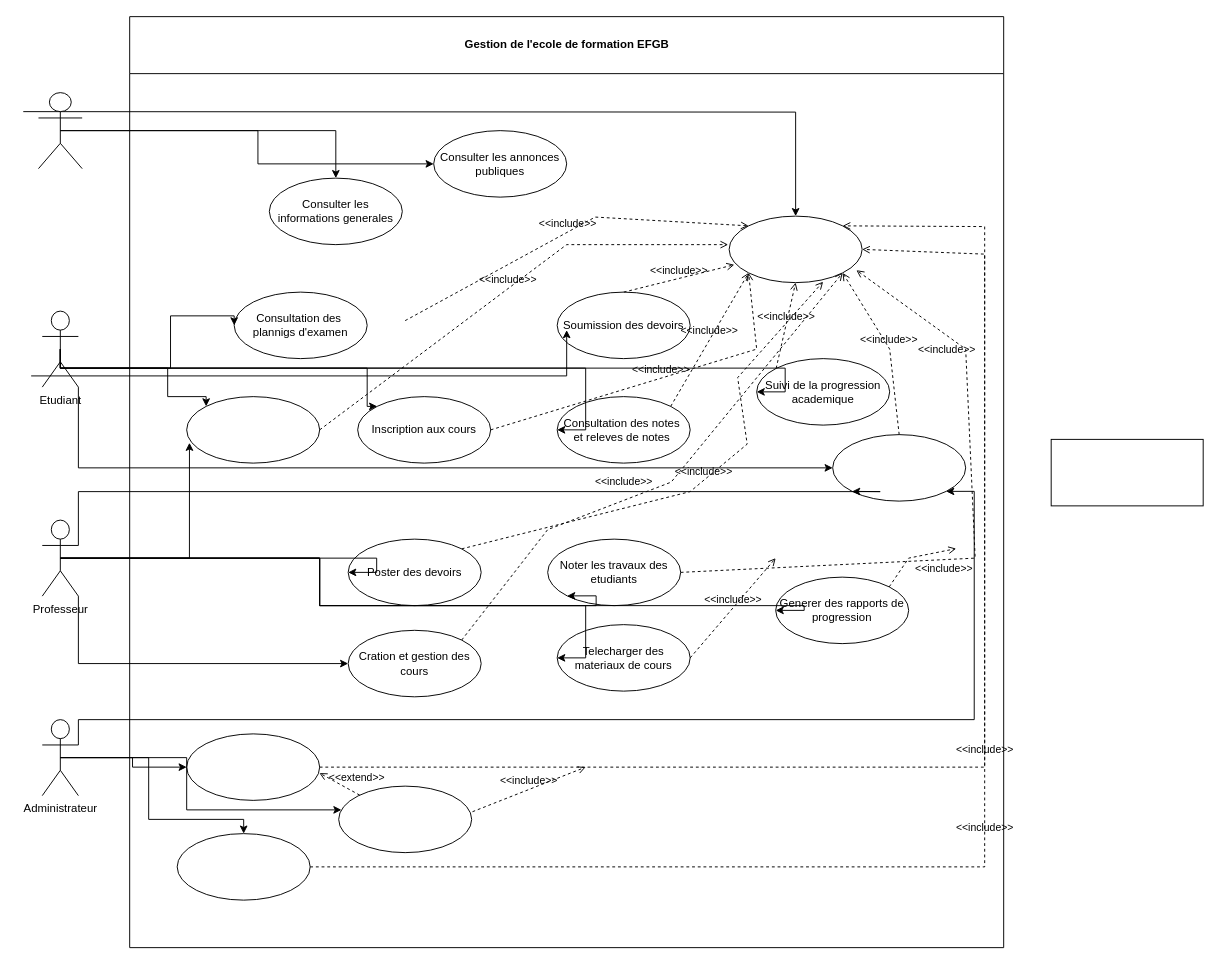
Some shapes in this 1220 by 964 pixel diagram are drawn without their labels. Here are the shapes that lost their labels. From the top down, the centre of each, then its label:
At (x=60, y=130): "Visiteur".
At (x=795, y=249): "Authentification".
At (x=253, y=429): "Consultation des plannigs de cours".
At (x=899, y=467): "Acces aux ressources pedagogiques et administratives".
At (x=1126, y=472): "<<actor>> Systeme".
At (x=253, y=766): "Gestion des comptes utilisateurs".
At (x=405, y=819): "Publication des annonces et actualites".
At (x=243, y=866): "Gestion des emplois du temps academiques".
